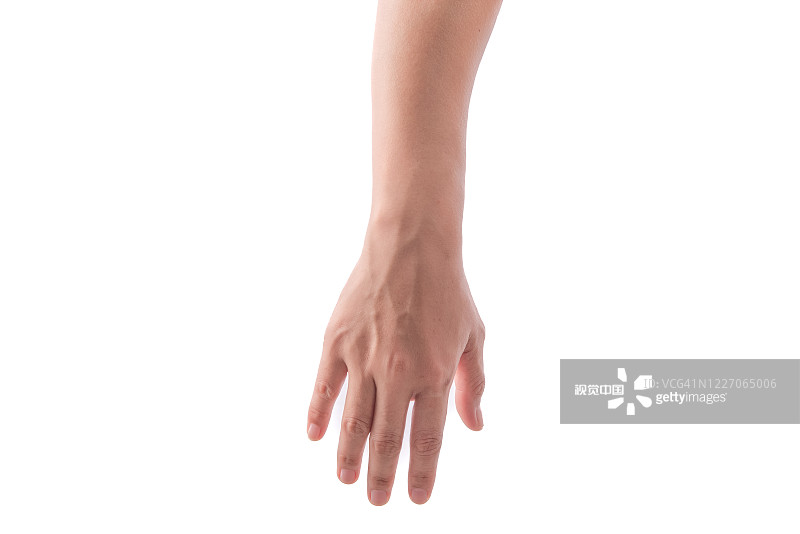no-phone: (287, 224, 515, 513)
